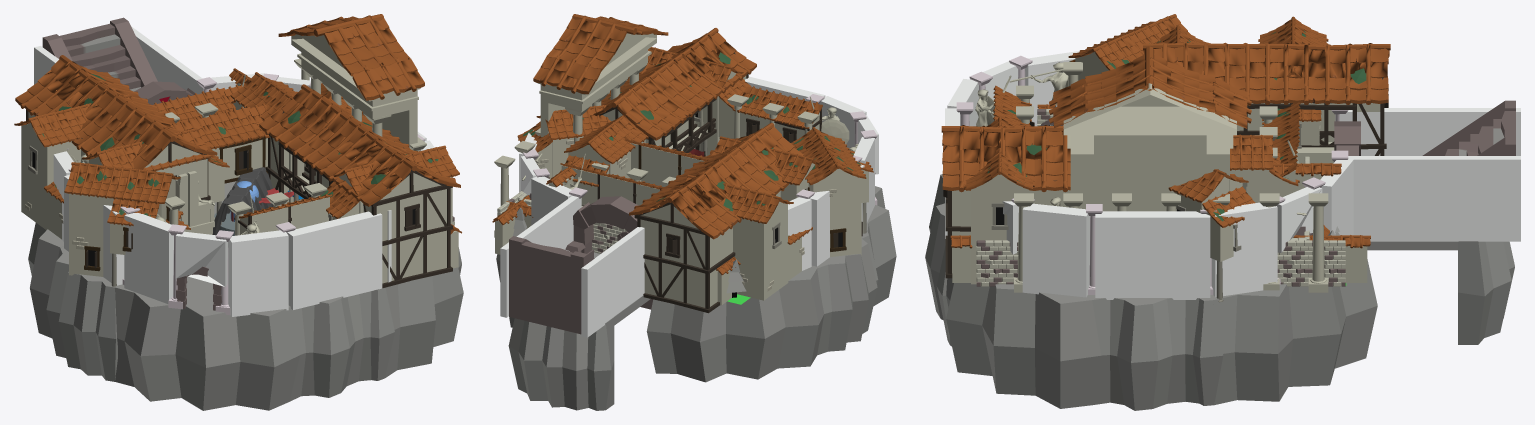
File: RoomR8.fbx
3 views of the same model, side by side, from view 1: azimuth 30°, elevation 25°; view 2: azimuth 150°, elevation 25°; view 3: azimuth 270°, elevation 25° (orthographic). The views are drawn at different scales.
Visible parts, largest first — view 1: CentralHub, R-R2, R-R3, R-R4, R-R6, R-R1, R-R7, TunnelNE; view 2: CentralHub, R-R2, R-R4, R-R3, R-R6, R-R1, R-R7, R-R8, R-R5; view 3: CentralHub, R-R3, R-R2, R-R6, R-R4, R-R7, R-R8, R-R1.
Part boxes in pixels (<box>): CentralHub: <box>28,17,463,410</box>; R-R2: <box>15,55,460,288</box>; R-R3: <box>165,14,424,235</box>; R-R4: <box>14,83,459,239</box>; R-R6: <box>64,83,461,286</box>; R-R1: <box>82,72,304,231</box>; R-R7: <box>165,58,426,224</box>; TunnelNE: <box>212,167,273,235</box>; CentralHub: <box>496,76,896,410</box>; R-R2: <box>593,28,803,313</box>; R-R4: <box>560,47,822,300</box>; R-R3: <box>533,14,819,186</box>; R-R6: <box>492,105,873,305</box>; R-R1: <box>560,115,819,205</box>; R-R7: <box>494,128,709,237</box>; R-R8: <box>497,191,750,304</box>; R-R5: <box>518,177,628,253</box>; CentralHub: <box>925,49,1520,410</box>; R-R3: <box>1016,46,1277,211</box>; R-R2: <box>941,42,1390,278</box>; R-R6: <box>950,14,1370,302</box>; R-R4: <box>964,16,1328,284</box>; R-R7: <box>1014,62,1341,292</box>; R-R8: <box>976,105,1346,286</box>; R-R1: <box>1156,25,1299,202</box>.
Size of the model in its own units: 2923 by 2140 by 3715.
